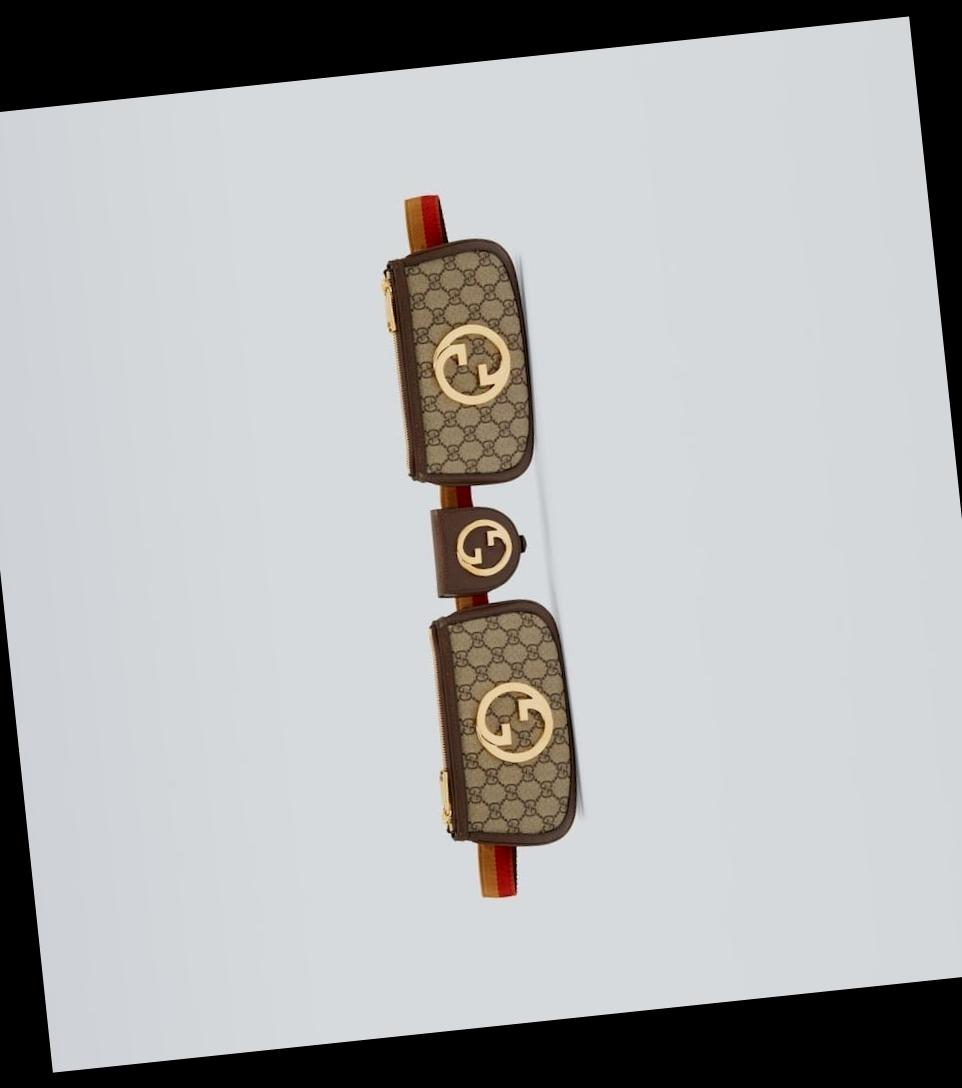GUCCI: (470, 676, 558, 766), (429, 319, 515, 408), (452, 515, 516, 578)
